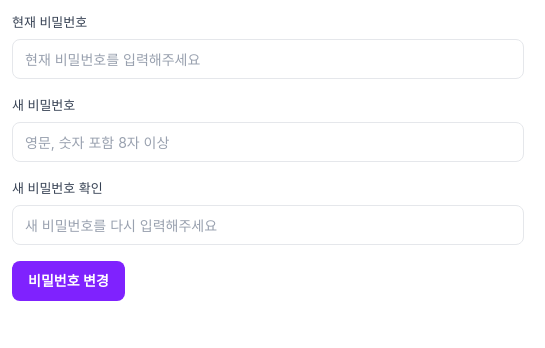
Scenario: PasswordForm › 새 비밀번호 불일치 시 에러 메시지가 표시된다
Type "Password123" into the password field labelled "새 비밀번호".
click(268, 142); type("Password123")  # box [12,122,524,162]
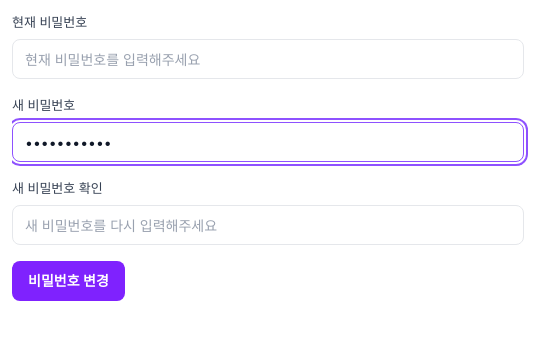
Type "DifferentPassword123" into the password field labelled "새 비밀번호 확인".
click(268, 225); type("DifferentPassword123")  # box [12,205,524,245]
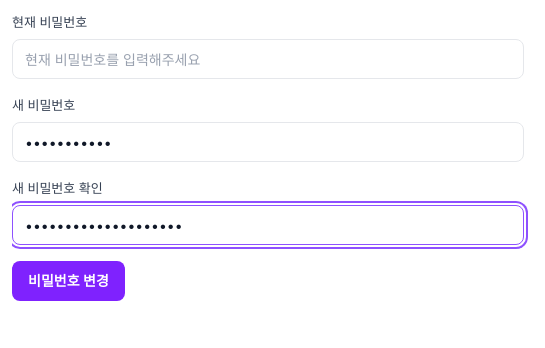
Press Tab
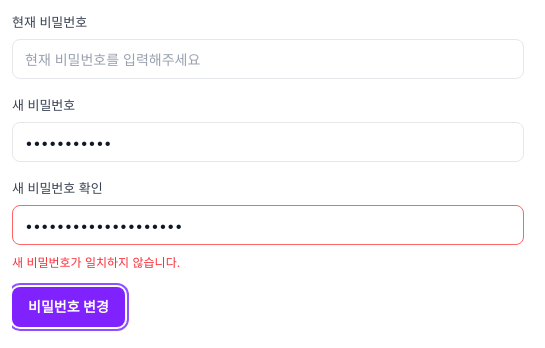
Expected: the text "새 비밀번호가 일치하지 않습니다." is shown, [12,255,180,270]
